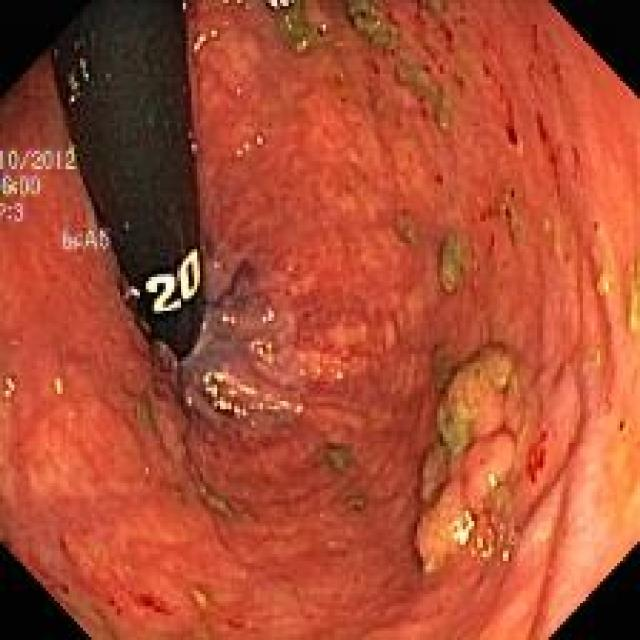Polyps: (415, 347, 522, 573), (464, 433, 516, 512)
